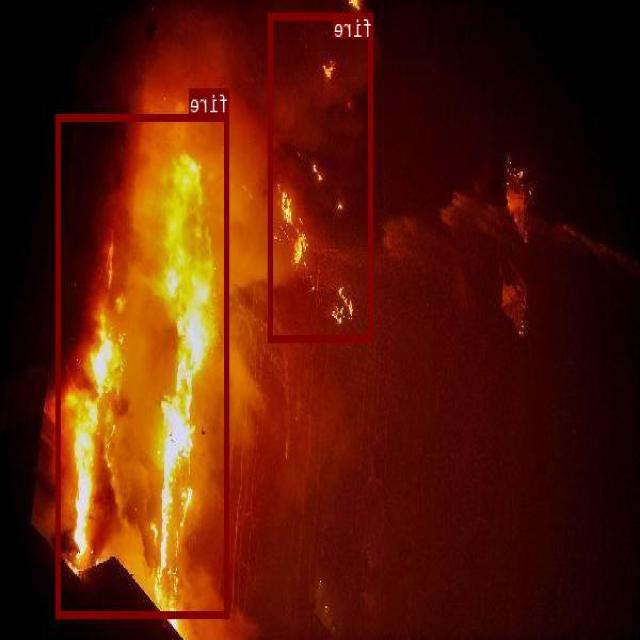fire: (57, 113, 229, 617), (269, 12, 374, 341)
